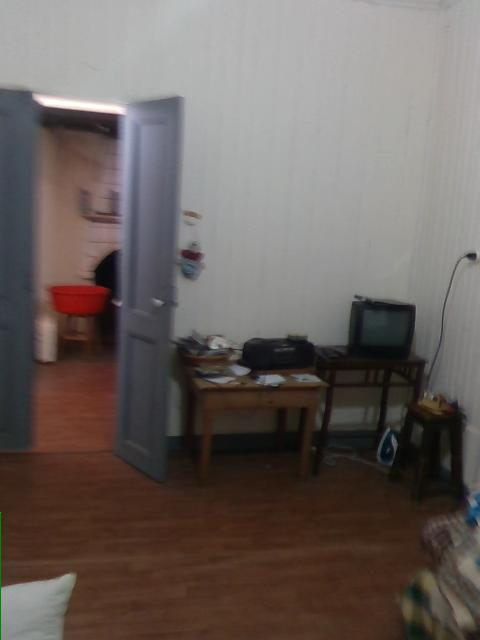door: (113, 96, 185, 485)
